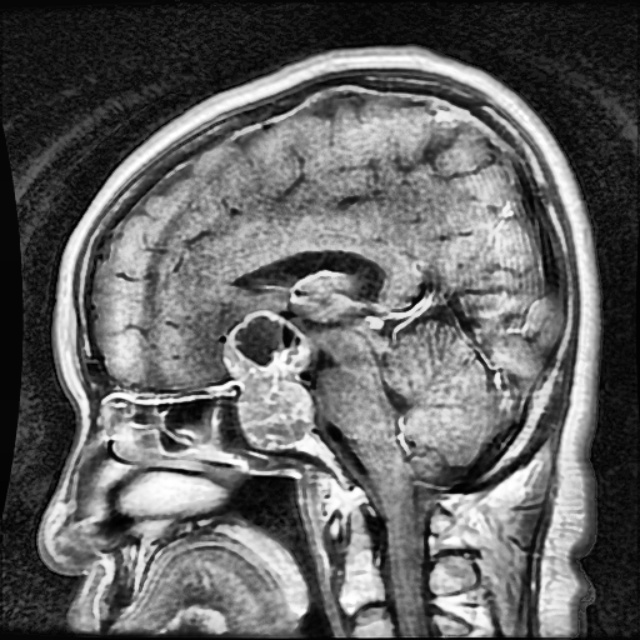Pituitary: (224, 309, 312, 449)
